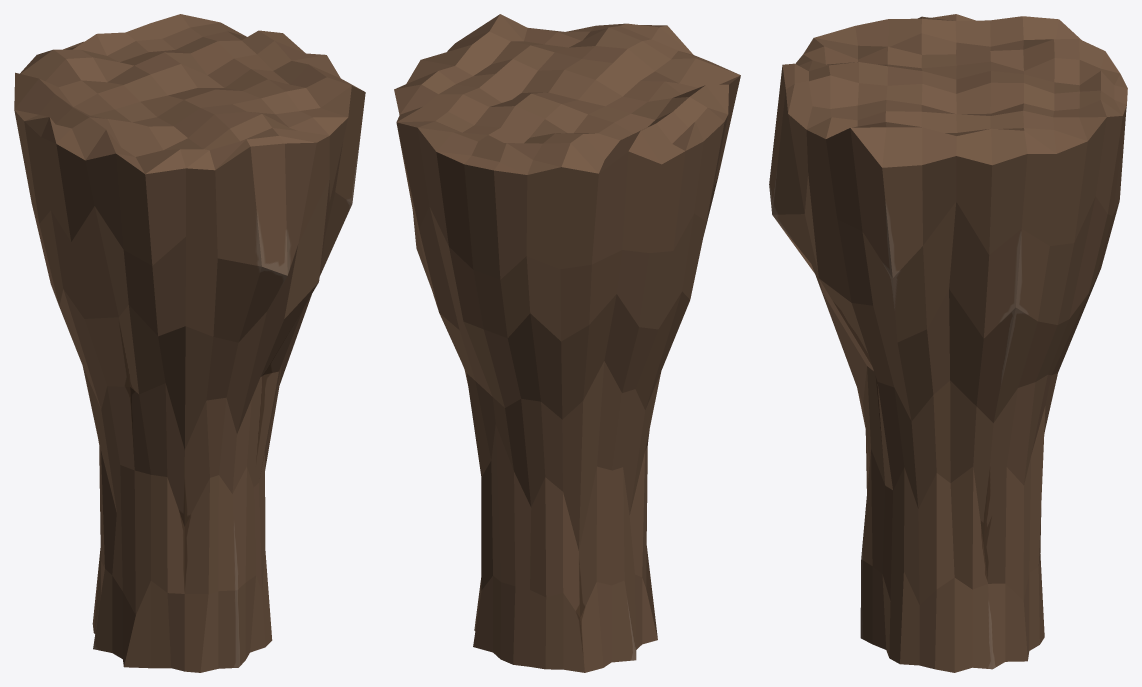
The model's file is Pillar02.fbx.
3 views of the same model, side by side, from view 1: azimuth 30°, elevation 25°; view 2: azimuth 150°, elevation 25°; view 3: azimuth 270°, elevation 25° (orthographic).
Parts seen in each view (by area): view 1: pCylinder83; view 2: pCylinder83; view 3: pCylinder83.
Boxes of the visible parts, x1,y1,x2,y2 form: pCylinder83: [14, 14, 365, 672]; pCylinder83: [394, 14, 740, 672]; pCylinder83: [769, 14, 1127, 672].
Size of the model in its own units: 5.63 by 10.42 by 5.98.
